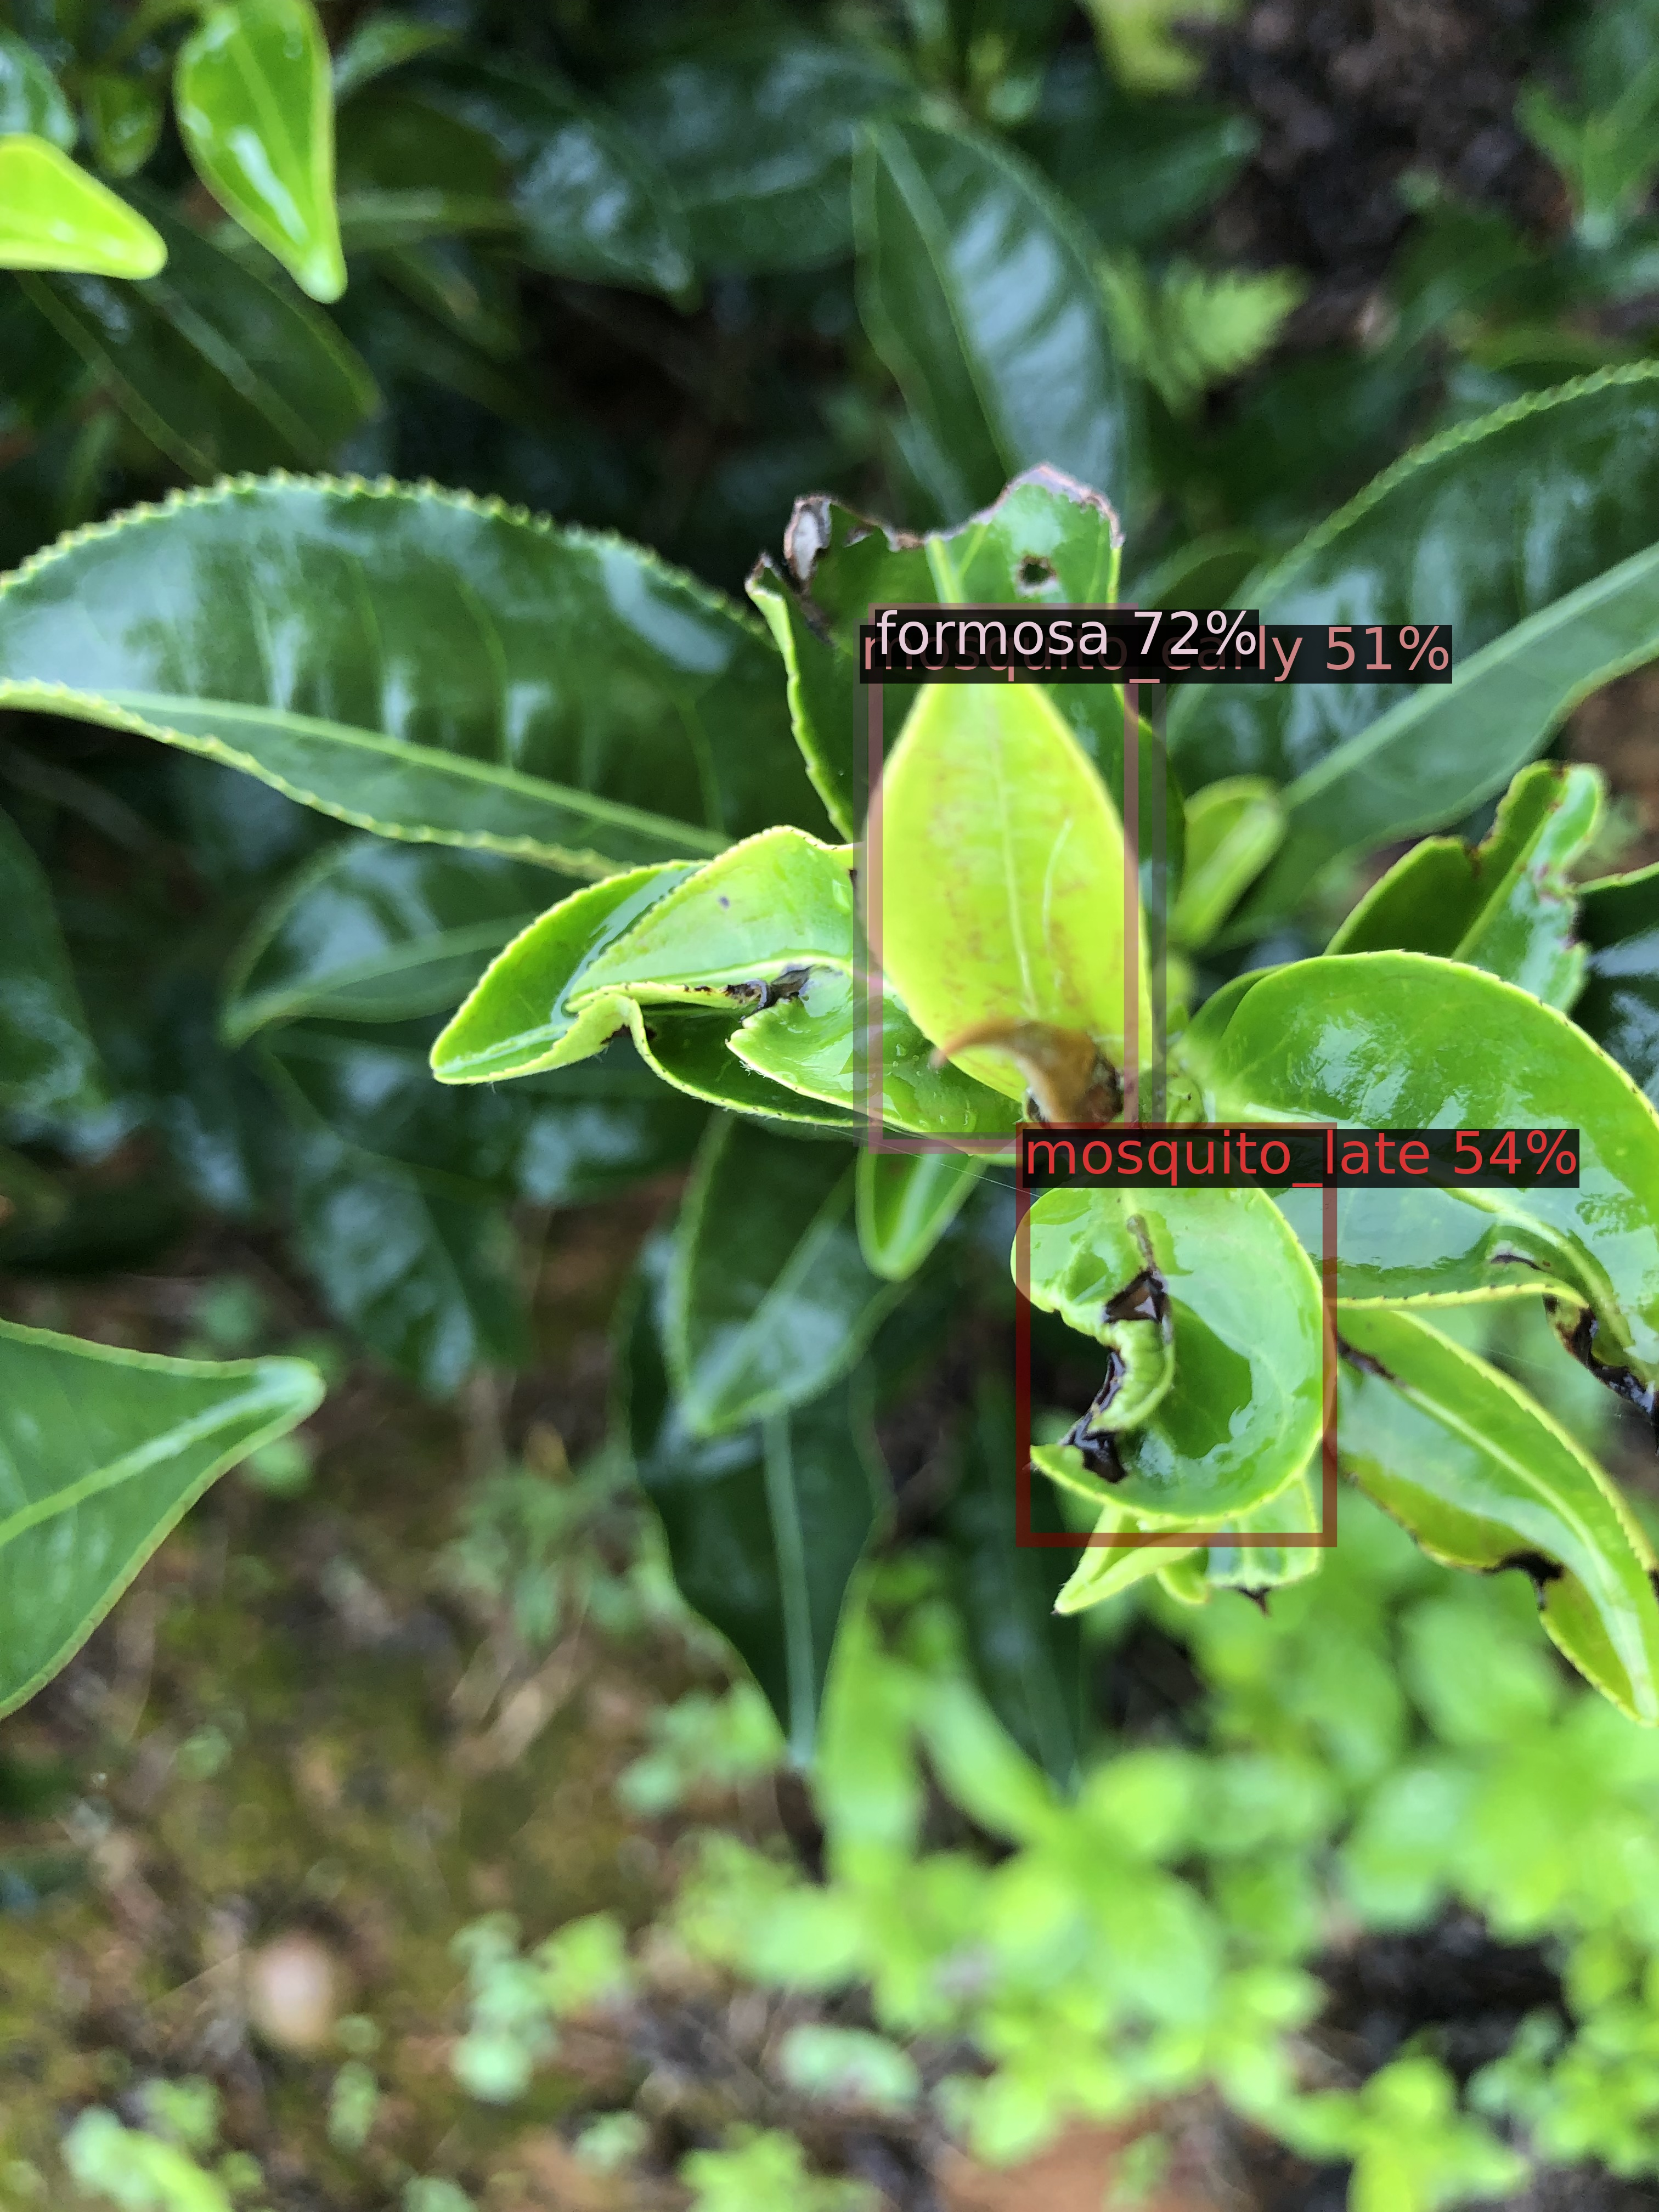formosa: (875, 610, 1131, 1146)
mosquito_early: (861, 625, 1159, 1139)
mosquito_late: (1023, 1130, 1330, 1540)
